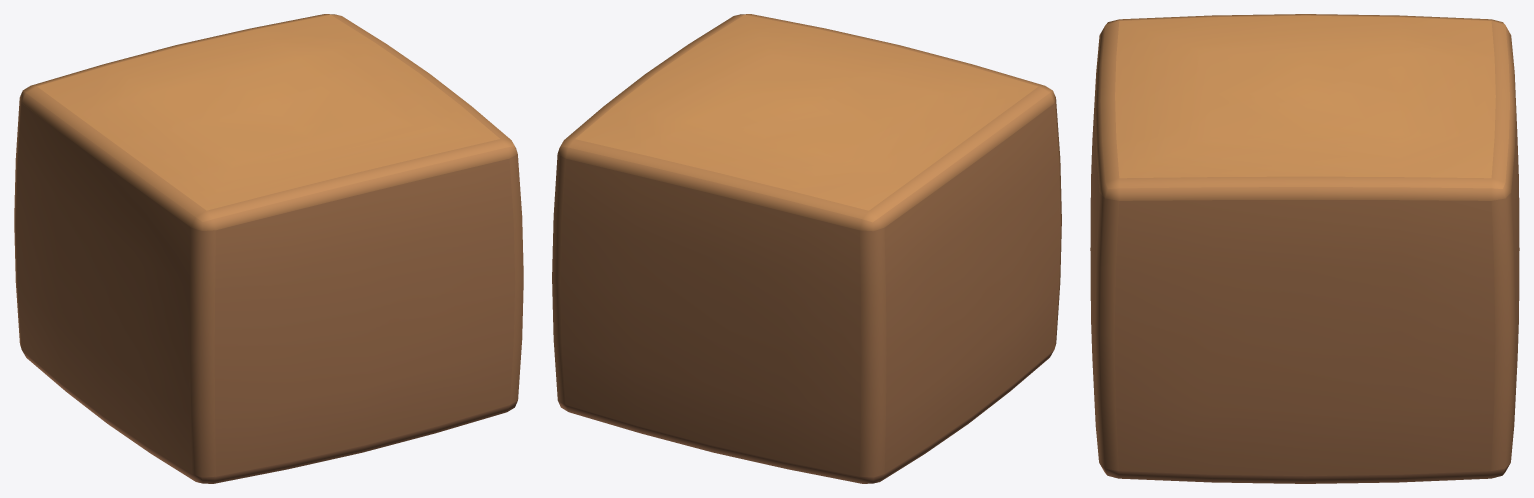
Rendered from ground_cubes4.fbx.
The picture shows the model from 3 angles, left to right: view 1: azimuth 30°, elevation 25°; view 2: azimuth 150°, elevation 25°; view 3: azimuth 270°, elevation 25°; orthographic projection. The views are drawn at different scales.
Visible parts, largest first — view 1: ground_cubes4; view 2: ground_cubes4; view 3: ground_cubes4.
Boxes of the visible parts, <box> form: ground_cubes4: <box>14,14,523,483</box>; ground_cubes4: <box>552,14,1061,483</box>; ground_cubes4: <box>1090,14,1519,483</box>.
Size of the model in its own units: 109 by 86.94 by 109.
Materials: 1 (1 with a texture image).
